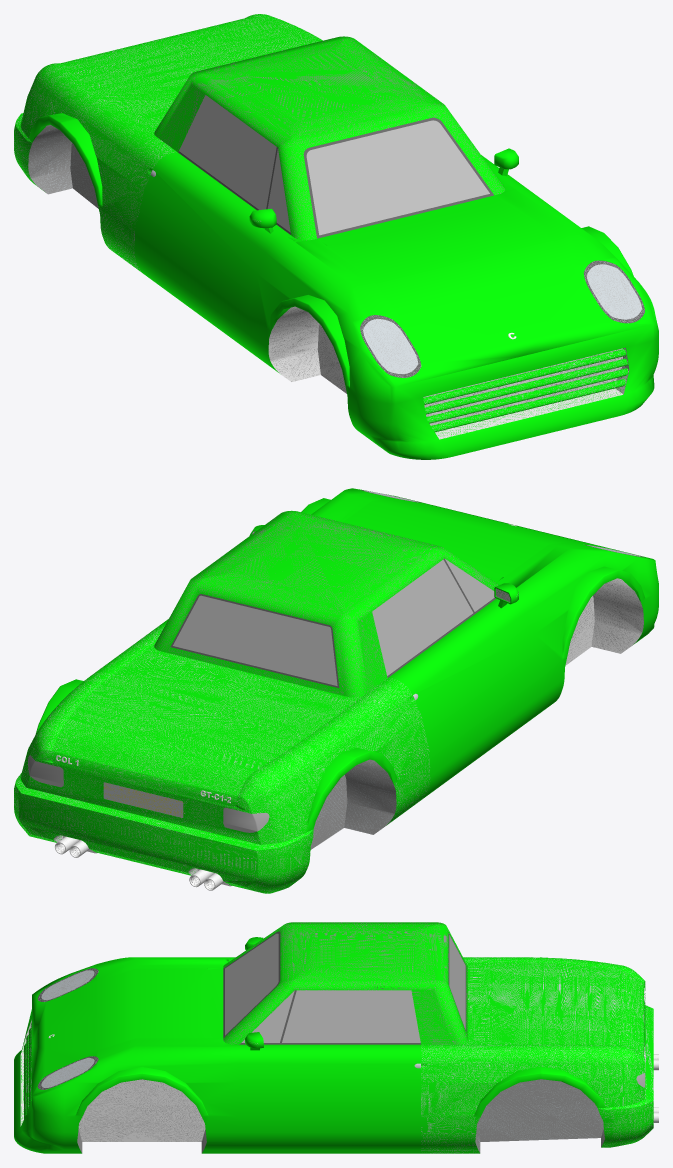
The model's file is body.fbx.
3 views of the same model, one above another, from view 1: azimuth 30°, elevation 25°; view 2: azimuth 150°, elevation 25°; view 3: azimuth 270°, elevation 25° (orthographic). The views are drawn at different scales.
Parts seen in each view (by area): view 1: SketchUp; view 2: SketchUp; view 3: SketchUp.
Boxes of the visible parts, x1,y1,x2,y2 form: SketchUp: (14,14,658,459); SketchUp: (14,488,658,893); SketchUp: (14,922,658,1153).
Bounding box in the file's own units: 218 × 135 × 511.
